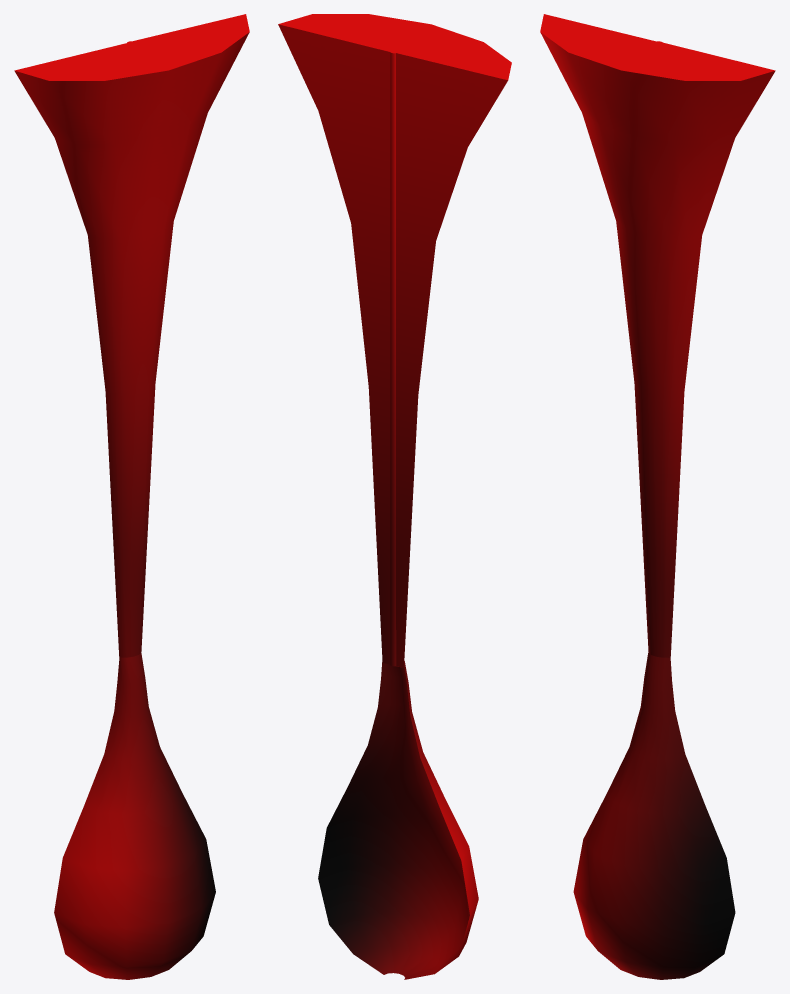
Rendered from Blood_003.FBX.
The picture shows the model from 3 angles, left to right: view 1: azimuth 30°, elevation 25°; view 2: azimuth 150°, elevation 25°; view 3: azimuth 330°, elevation 25°; orthographic projection.
Parts seen in each view (by area): view 1: Blood_003; view 2: Blood_003; view 3: Blood_003.
Part boxes in pixels (x1,y1,x2,y2): Blood_003: (14,14,249,979); Blood_003: (278,14,511,979); Blood_003: (540,14,775,979).
Size of the model in its own units: 9.55 by 36.69 by 2.85.
1 material, 1 textured.
